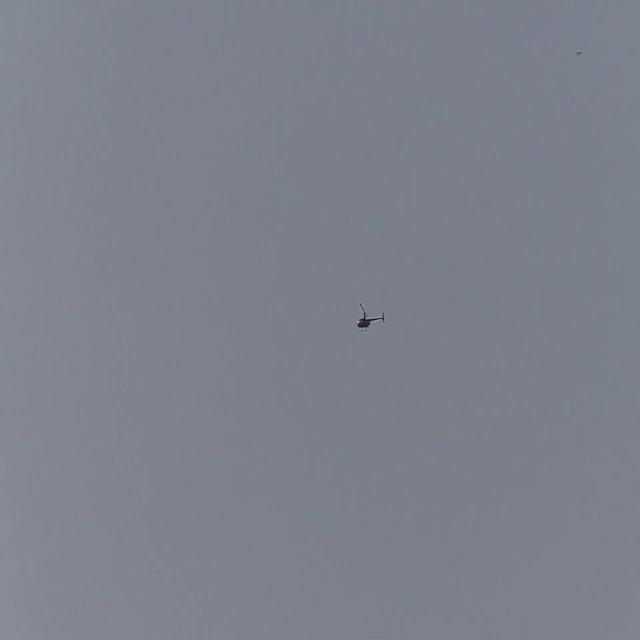CIV_HELO: (357, 310, 385, 332)
